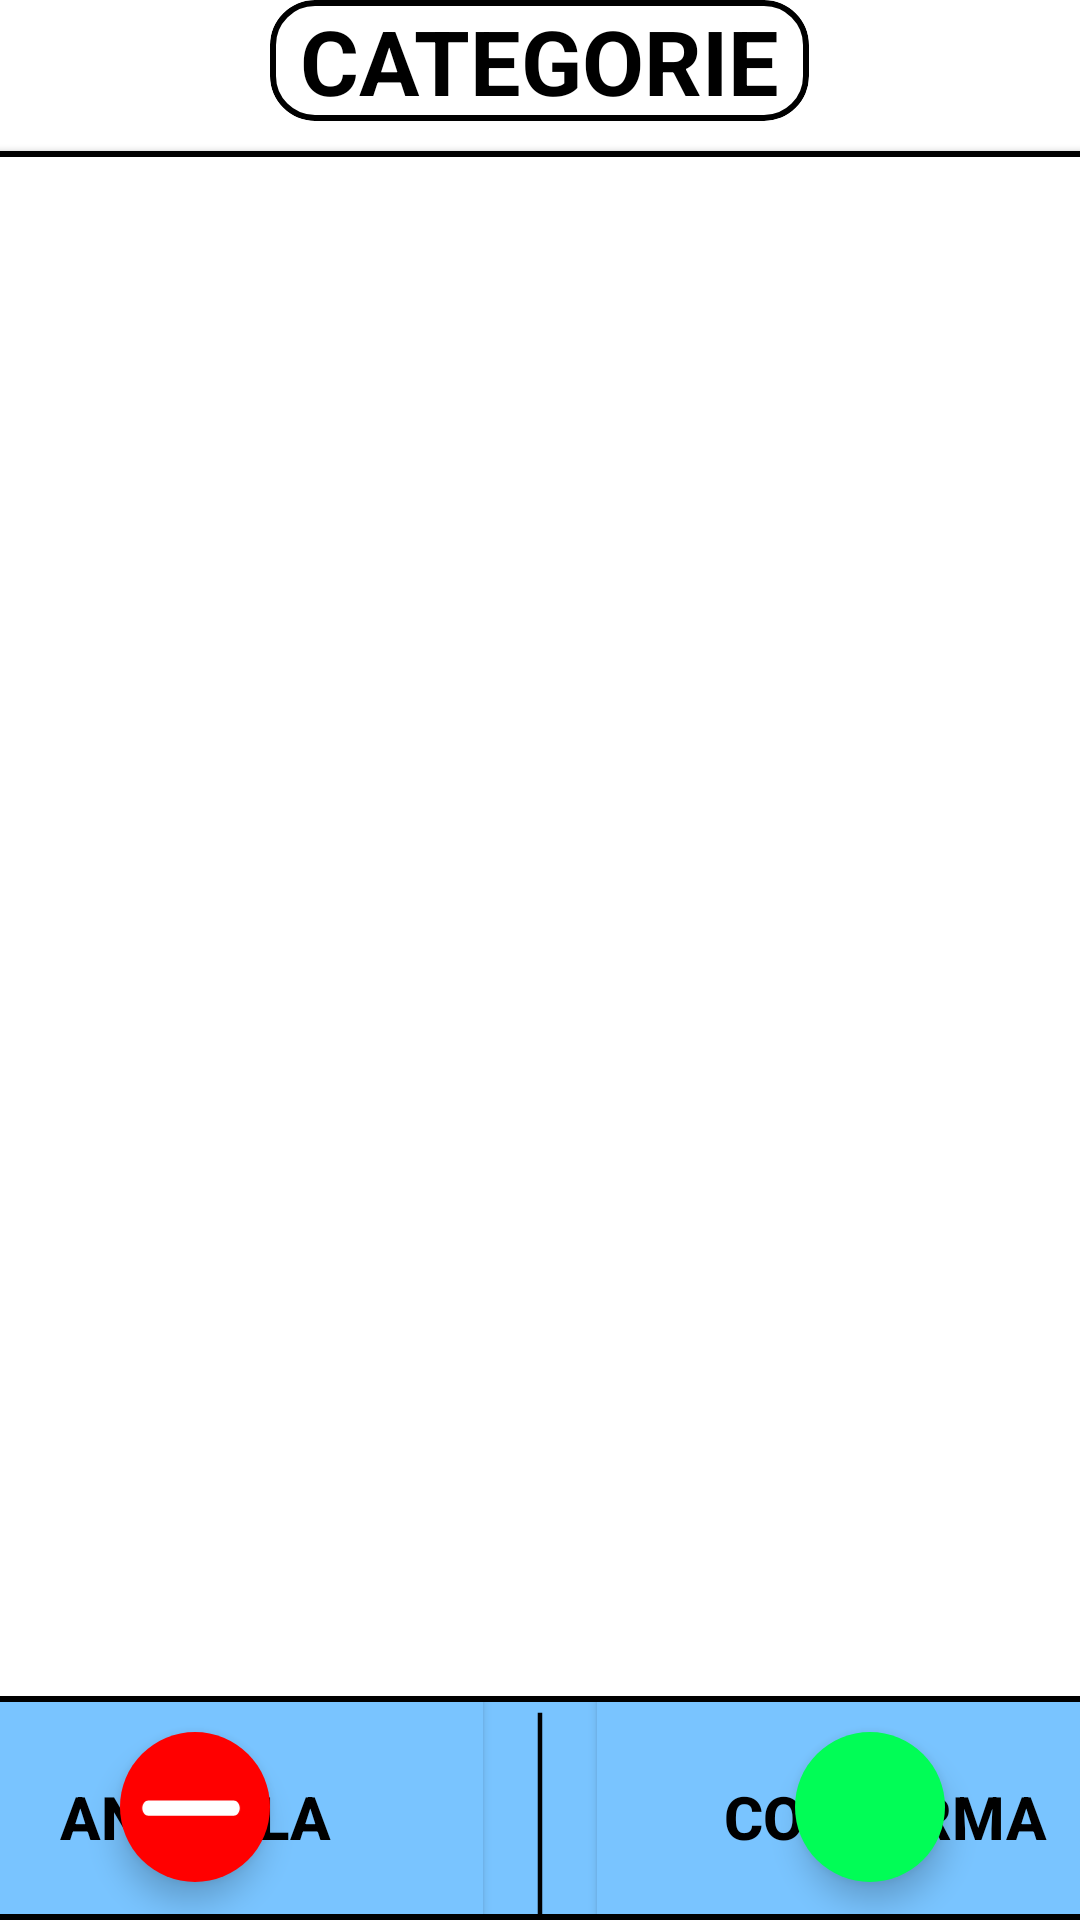

Where to tap for icons on this 1080 x 1920 app screen, as (x=x, y=y):
minus: (x=195, y=1807)
